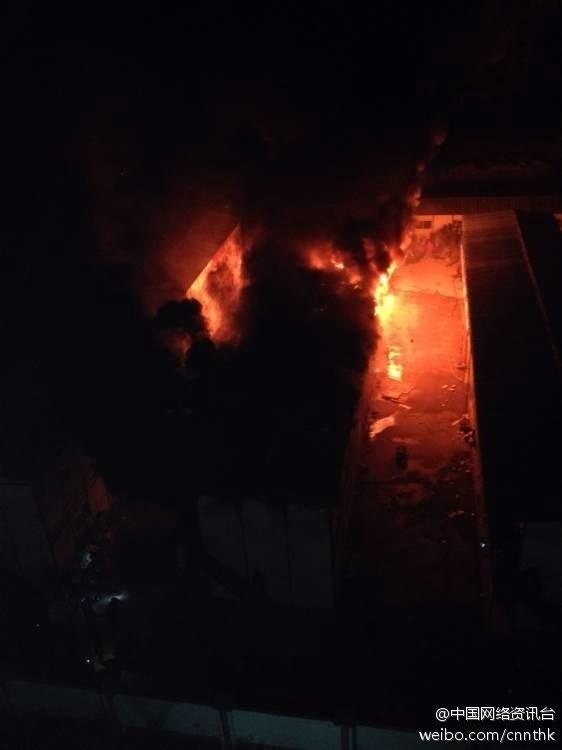fire: (183, 229, 249, 335)
